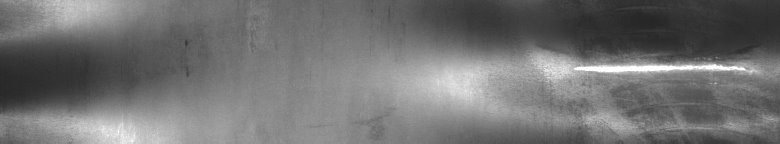ke: (527, 4, 776, 136)
